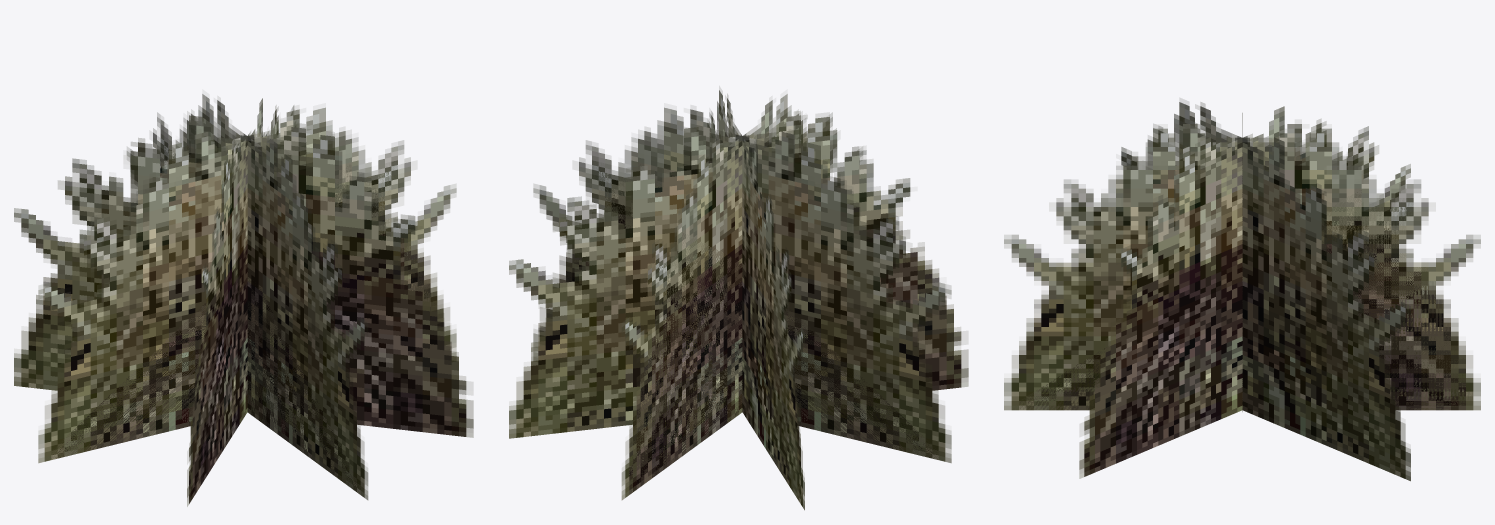
File: Environment - Prop - Dsrt Br Gr - PMDsrtBrGr.glb
3 views of the same model, side by side, from view 1: azimuth 30°, elevation 25°; view 2: azimuth 150°, elevation 25°; view 3: azimuth 270°, elevation 25° (orthographic).
Visible parts, largest first — view 1: PMDSRTBRGR; view 2: PMDSRTBRGR; view 3: PMDSRTBRGR.
Boxes of the visible parts, x1,y1,x2,y2 form: PMDSRTBRGR: (14,94,473,506); PMDSRTBRGR: (509,87,968,510); PMDSRTBRGR: (1004,98,1480,481).
Size of the model in its own units: 12.73 by 8.71 by 12.73.
1 material, 1 textured.
